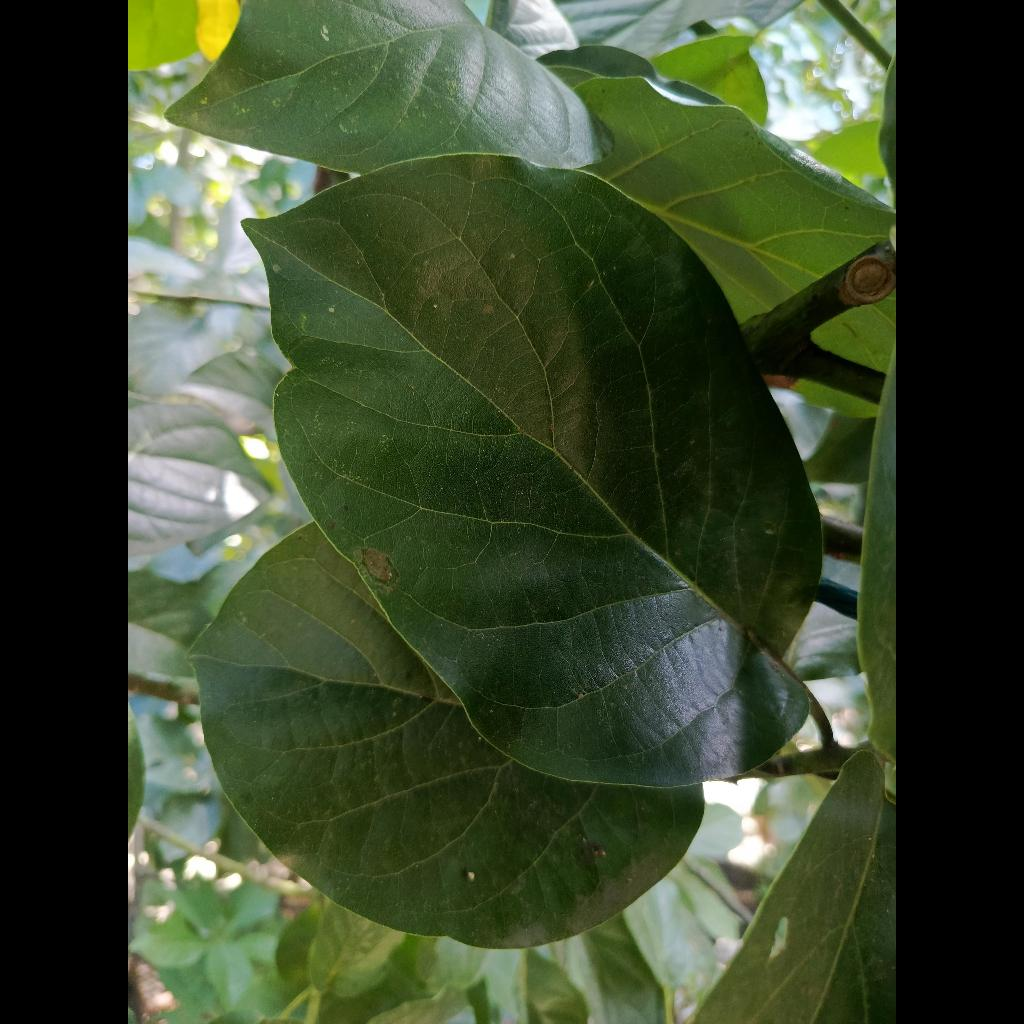antracnosis_hoja: (253, 156, 820, 785)
